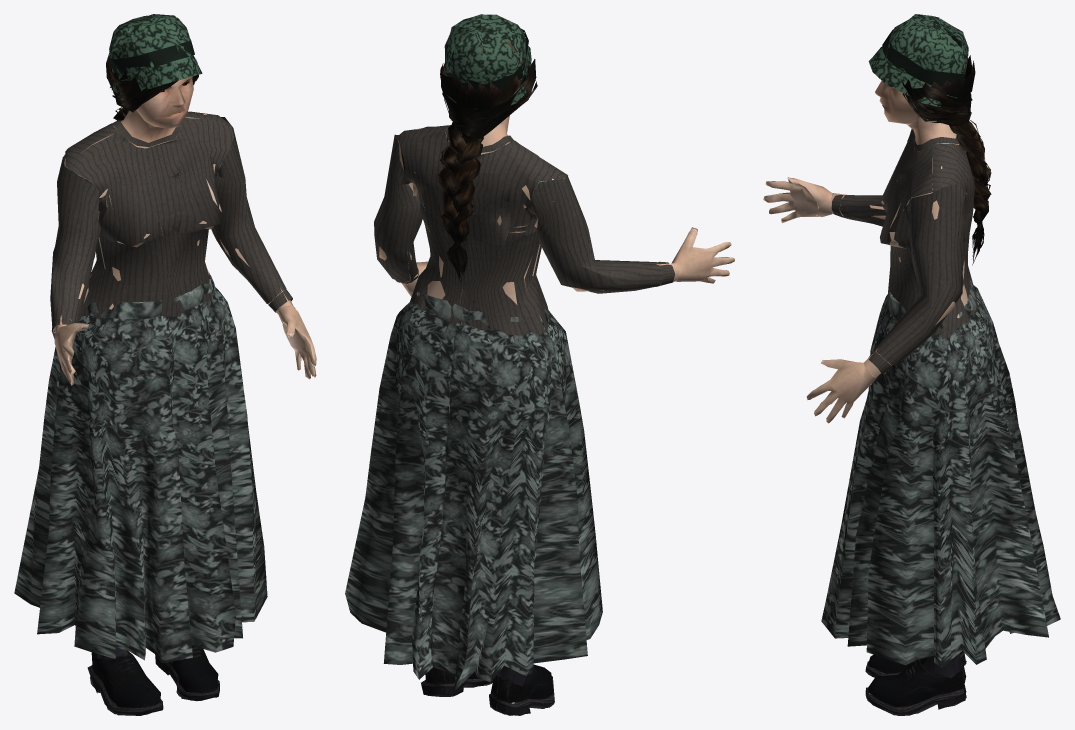
3 views of the same model, side by side, from view 1: azimuth 30°, elevation 25°; view 2: azimuth 150°, elevation 25°; view 3: azimuth 270°, elevation 25° (orthographic).
Visible parts, largest first — view 1: Modell; view 2: Modell; view 3: Modell.
Boxes of the visible parts, <box> form: Modell: <box>14,14,316,715</box>; Modell: <box>345,14,734,715</box>; Modell: <box>763,14,1060,715</box>.
Size of the model in its own units: 0.7528 by 1.73 by 0.698.
Materials: 8 (8 with a texture image).
